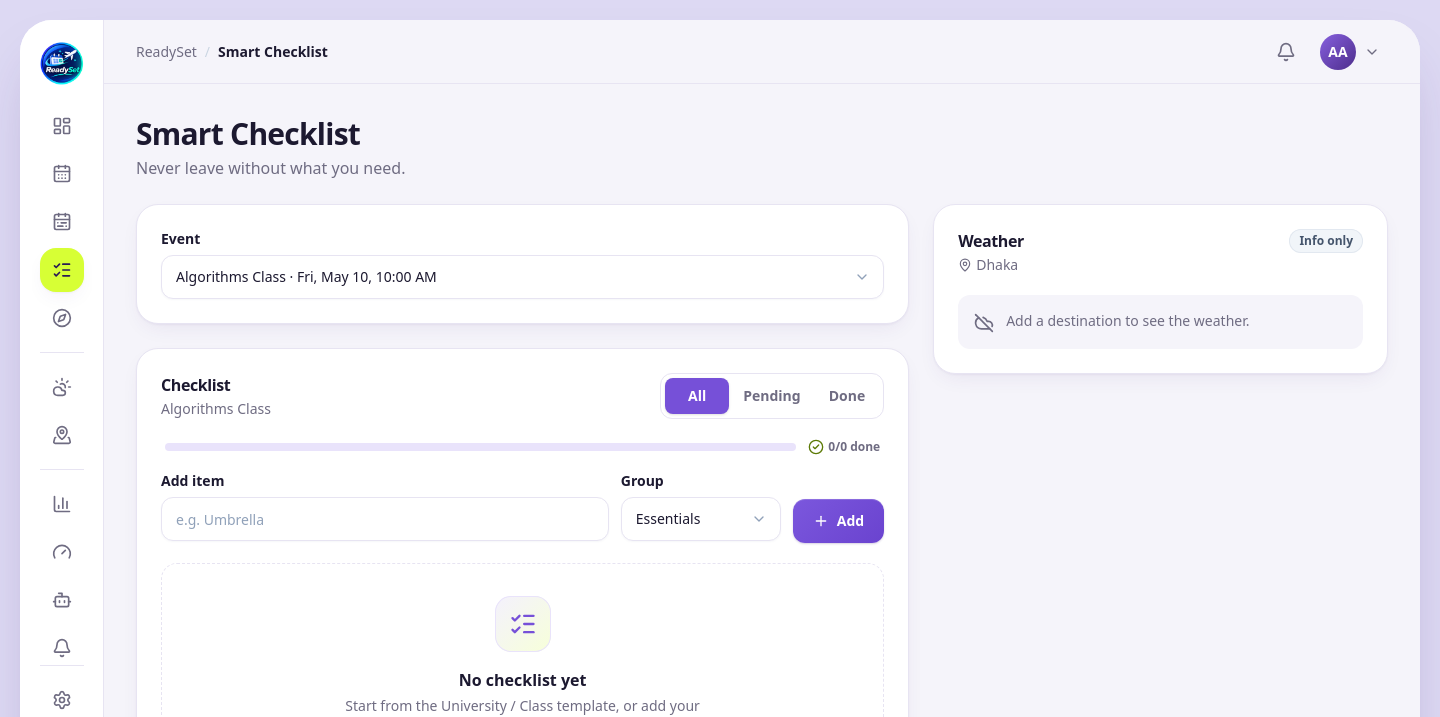
Test case: Smart Checklist page (database-backed) › validates an empty name on the client and shows a server error without losing the list
The image size is (1440, 717).
Expected: the heading "No checklist yet" is shown, [459,668,586,692]
Click the button "Add". click: point(838, 521)
box: [793,499,884,543]
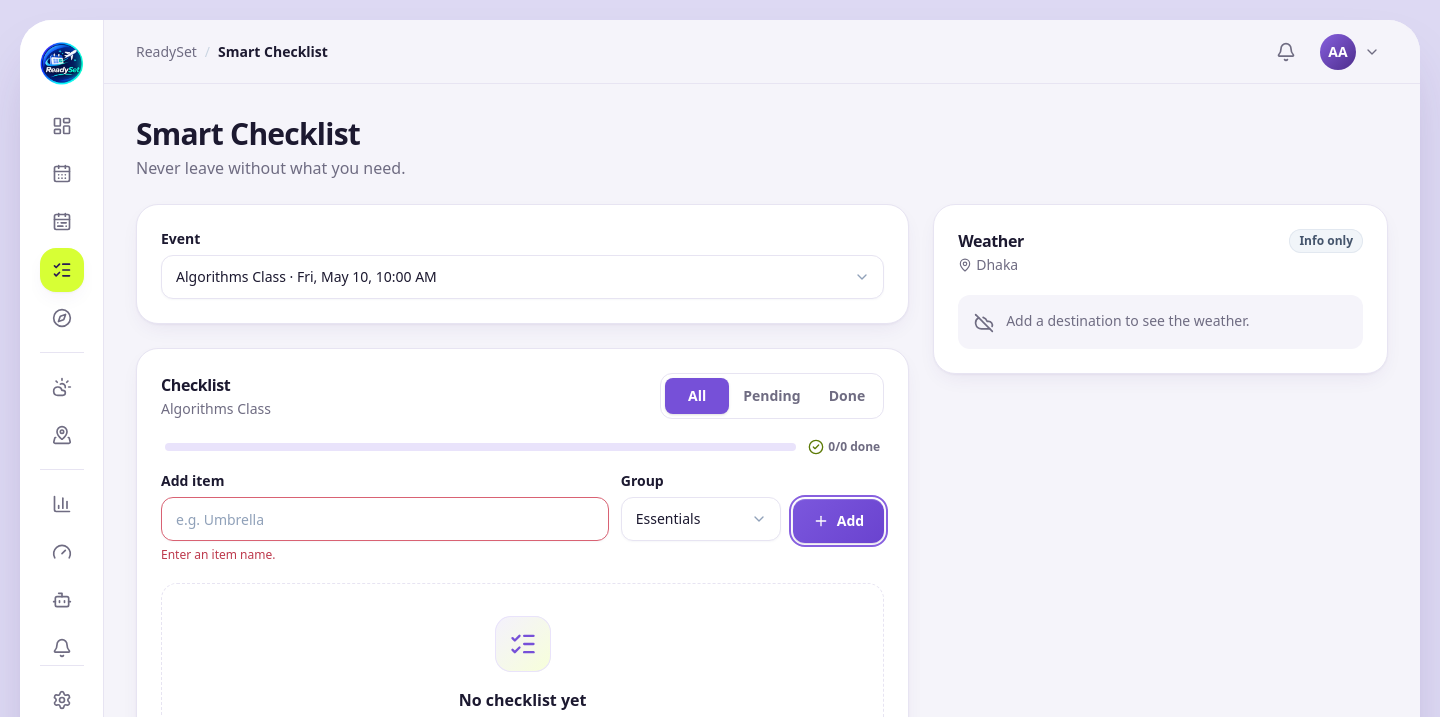
Expected: the text "Enter an item name." is shown, [161,546,275,563]
Type "Keys" into the field labelled "Add item". click: point(385, 519)
box: [161,497,609,541]
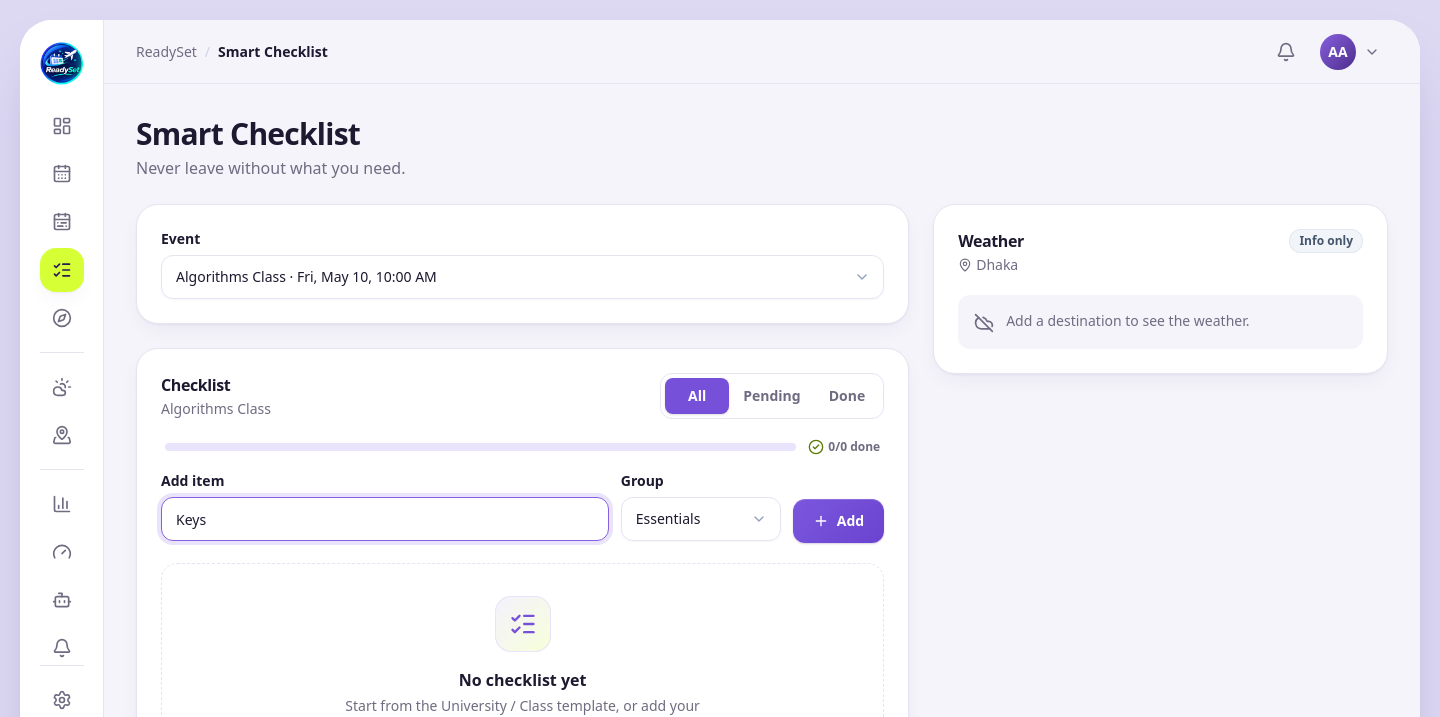
Click the button "Add". click: point(838, 521)
box: [793,499,884,543]
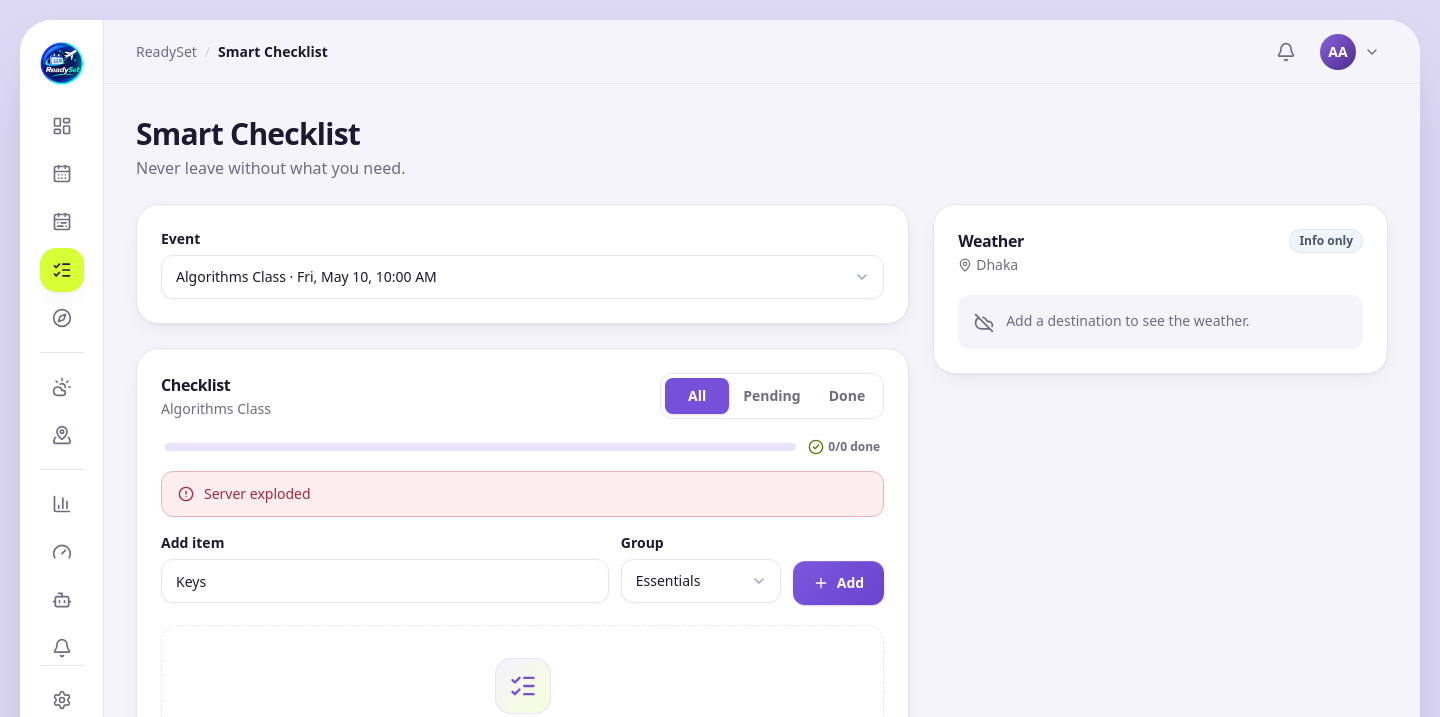
Expected: the message reads "Server exploded", [204,484,311,503]
